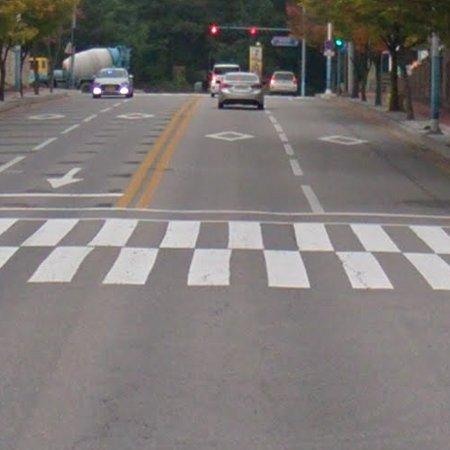crosswalks: (0, 218, 450, 253)
